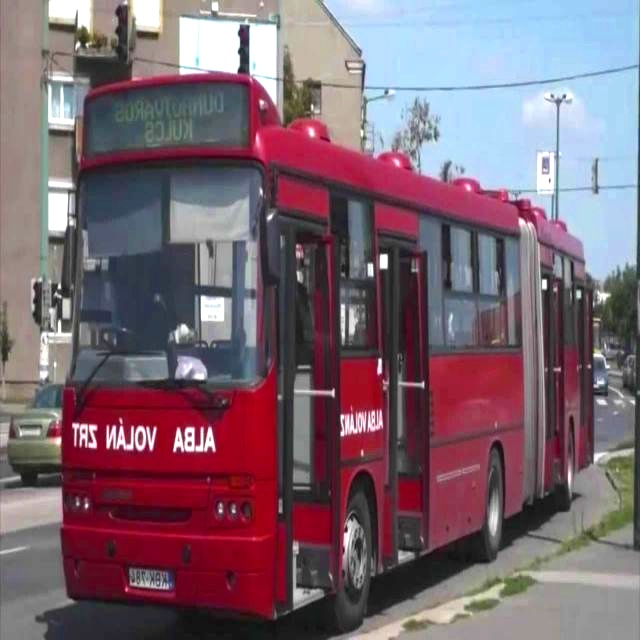bus: (36, 35, 612, 634)
